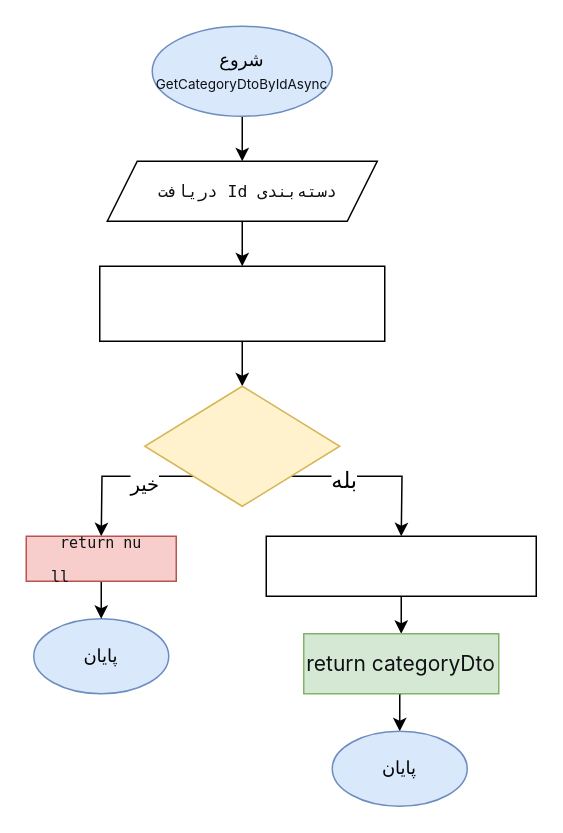
Some shapes in this 563 by 833 pixel diagram are drawn without their labels. Here are the shapes that lost their labels. From the top down, the box of each, then its label:
(98, 265, 385, 341): GetByIdAsync(id) (جستجوی دسته‌بندی در دیتابیس)
(143, 385, 340, 506): دسته‌بندی وجود دارد؟
(265, 535, 536, 596): MapToDto(category) (تبدیل به DTO)
